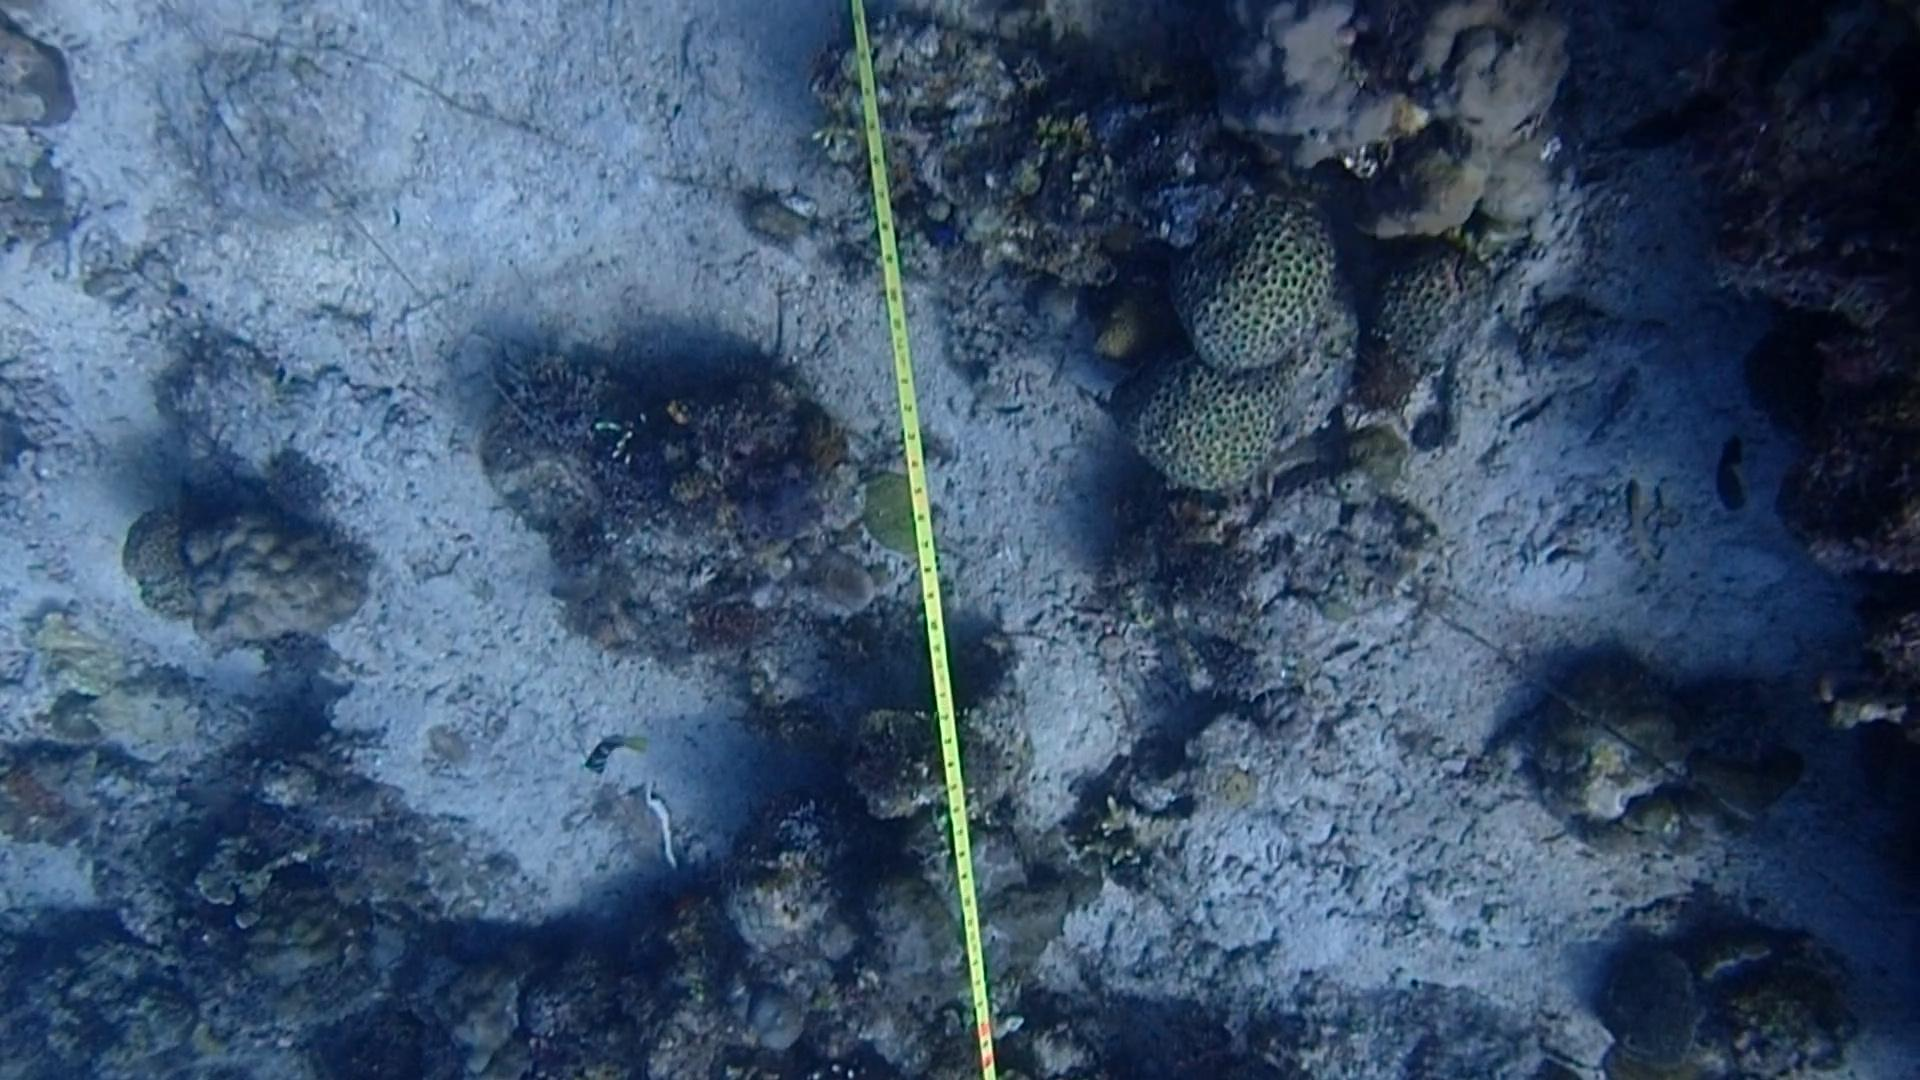Striped Fish: (576, 719, 651, 782)
